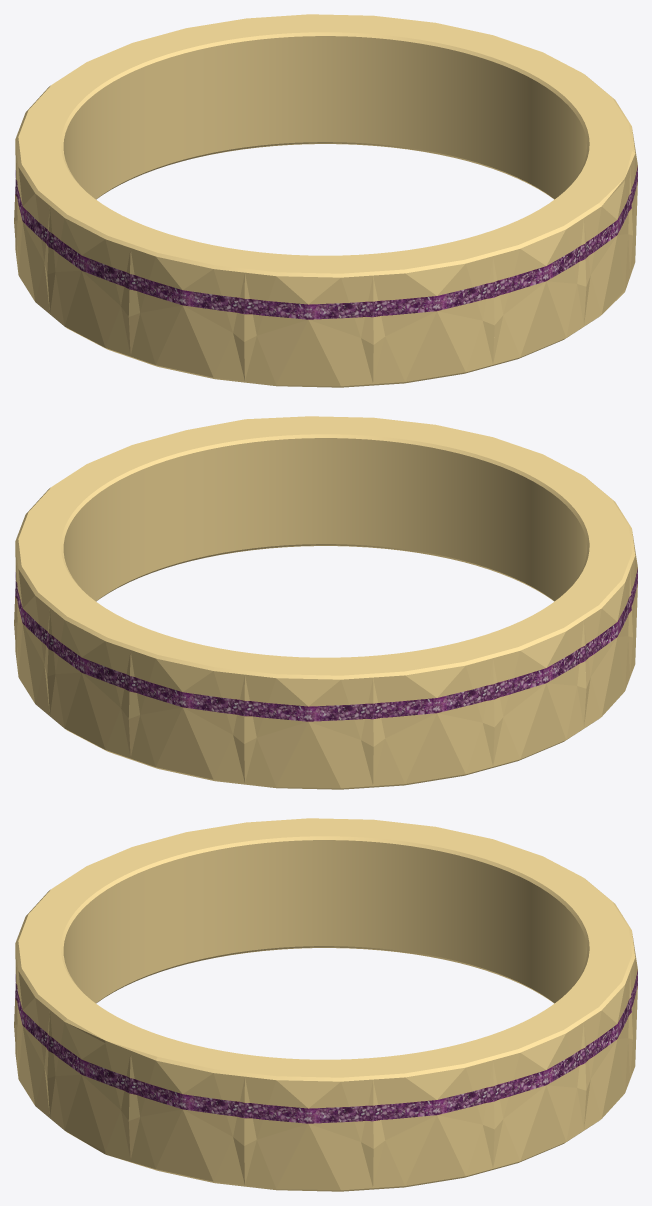
Rendered from done_ring.glb.
The picture shows the model from 3 angles, top to bottom: view 1: azimuth 30°, elevation 25°; view 2: azimuth 150°, elevation 25°; view 3: azimuth 270°, elevation 25°; orthographic projection.
Visible parts, largest first — view 1: [Color B08], [Color A01] (×8), [Color A06] (×7); view 2: [Color B08], [Color A01] (×8), [Color A06] (×7); view 3: [Color B08], [Color A01] (×8), [Color A06] (×7).
Part boxes in pixels (left/top/right/bottom): [Color B08]: left=15, top=14, right=635, bottom=387; [Color A01] (×8): left=14, top=130, right=637, bottom=386; [Color A06] (×7): left=15, top=179, right=631, bottom=319; [Color B08]: left=15, top=416, right=635, bottom=789; [Color A01] (×8): left=14, top=532, right=637, bottom=788; [Color A06] (×7): left=15, top=581, right=631, bottom=721; [Color B08]: left=15, top=818, right=635, bottom=1191; [Color A01] (×8): left=14, top=934, right=637, bottom=1190; [Color A06] (×7): left=15, top=983, right=631, bottom=1123.
Bounding box in the file's own units: 0.4266 × 0.086 × 0.4267.
Materials: 17 (15 with a texture image).
